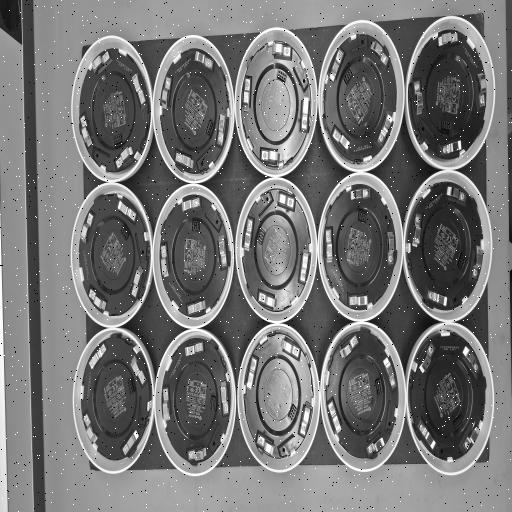yayli: (329, 46, 345, 84), (417, 418, 436, 450), (369, 39, 389, 69), (461, 422, 480, 453), (255, 430, 276, 457), (280, 335, 301, 361), (419, 341, 436, 373), (298, 402, 313, 438), (326, 398, 340, 436), (377, 113, 393, 146), (462, 344, 480, 373), (89, 342, 107, 370), (275, 189, 296, 213), (383, 354, 397, 390), (130, 354, 146, 385), (471, 245, 484, 282), (366, 433, 386, 457), (122, 429, 139, 457), (132, 74, 146, 108), (332, 126, 349, 153), (83, 414, 98, 444), (80, 212, 94, 244), (92, 50, 110, 74), (298, 249, 310, 285), (115, 146, 133, 170), (194, 50, 213, 72), (117, 200, 136, 222), (131, 266, 144, 298), (89, 288, 106, 312), (246, 356, 258, 390), (161, 76, 172, 112), (80, 115, 92, 148), (216, 113, 227, 148), (340, 334, 356, 358), (260, 147, 280, 166), (412, 214, 423, 248), (440, 140, 462, 157), (299, 98, 310, 132), (414, 80, 424, 116), (258, 290, 276, 310), (175, 151, 193, 170), (243, 218, 253, 252), (427, 290, 447, 307), (181, 196, 201, 213), (438, 31, 458, 48), (218, 235, 228, 269), (273, 41, 291, 59), (243, 76, 252, 112), (185, 340, 204, 357), (446, 186, 466, 202), (387, 231, 396, 266), (477, 74, 486, 109), (160, 245, 169, 278), (220, 382, 229, 415), (187, 300, 205, 316), (351, 187, 370, 202), (187, 447, 206, 462), (348, 294, 368, 308), (162, 387, 170, 422), (326, 230, 332, 264)
